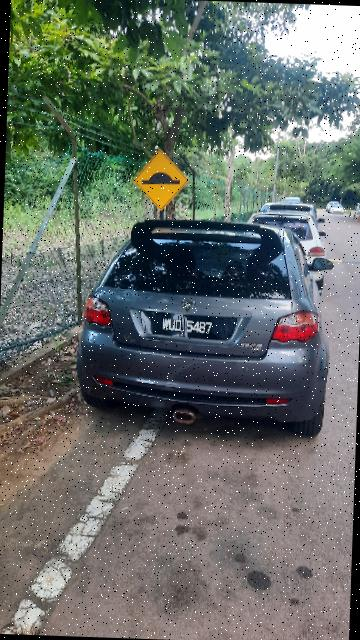License_Plate: (151, 309, 240, 346)
car: (75, 215, 340, 439)
